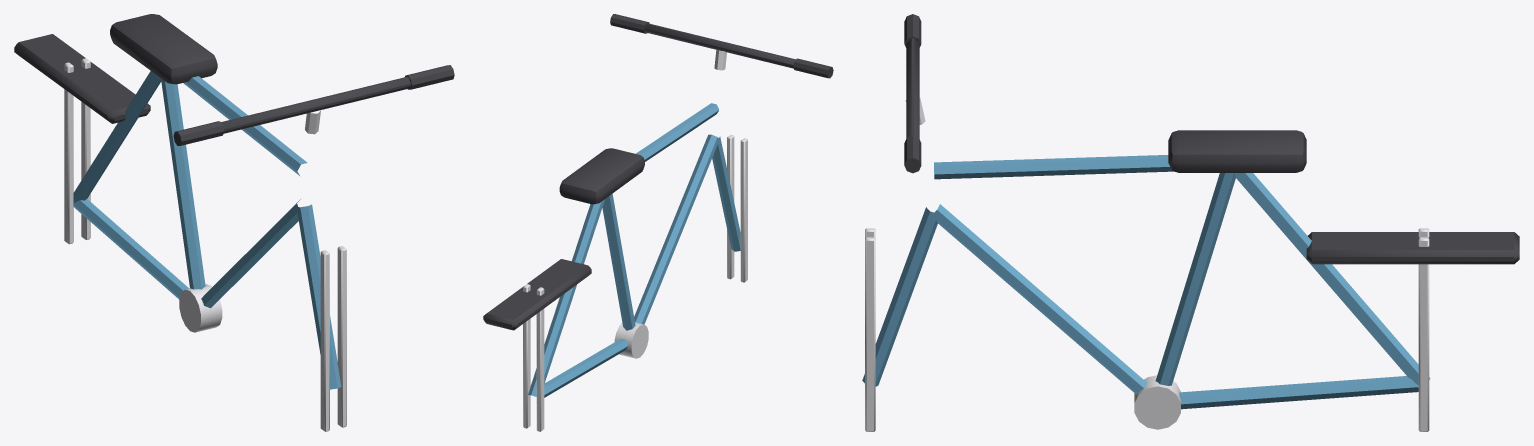
File: bike_frame.glb
3 renders of one model, left to right at view 1: azimuth 30°, elevation 25°; view 2: azimuth 150°, elevation 25°; view 3: azimuth 270°, elevation 25°, orthographic. The views are drawn at different scales.
Parts seen in each view (by area): view 1: bike_frame; view 2: bike_frame; view 3: bike_frame.
Boxes of the visible parts, x1,y1,x2,y2 form: bike_frame: (14, 14, 454, 431); bike_frame: (483, 14, 833, 431); bike_frame: (862, 14, 1519, 431).
Bounding box in the file's own units: 0.64 × 0.706 × 1.24.
